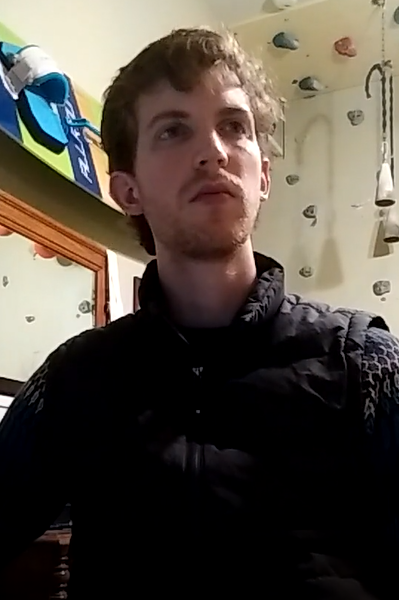Not Sleeping: (139, 108, 258, 153)
